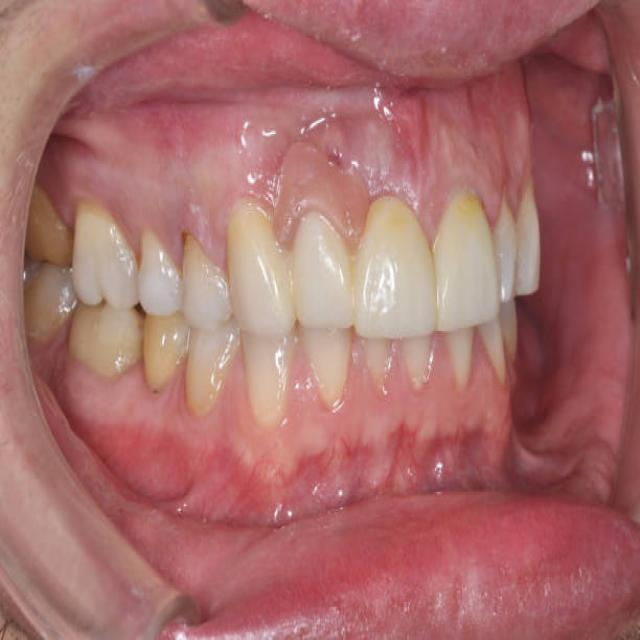Gingivitis: (301, 413, 514, 493), (274, 146, 364, 236), (383, 97, 437, 165)
